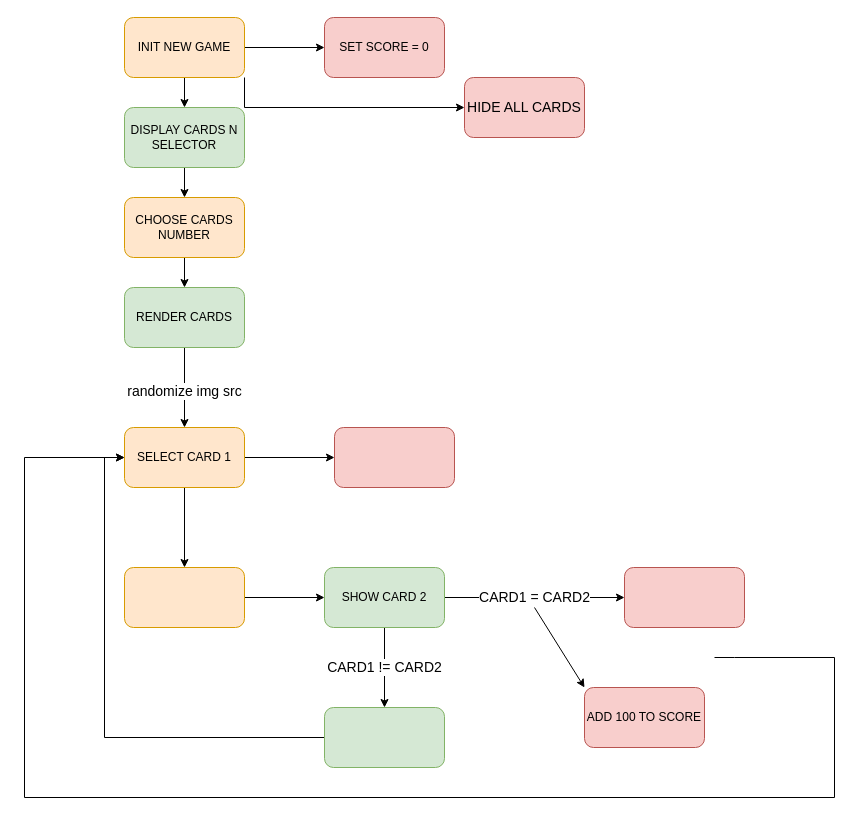
This 860x823 diagram has some shape labels left out. Here are the shapes that lost their labels. From the top down, the box of each, then its label:
(334, 426, 454, 488): SHOW CARD 1
(124, 566, 244, 628): SELECT CARD 2
(624, 566, 744, 628): KEEP SHOWING BOTH CARDS
(324, 706, 444, 768): HIDE NEWLY SELECTED CARDS
